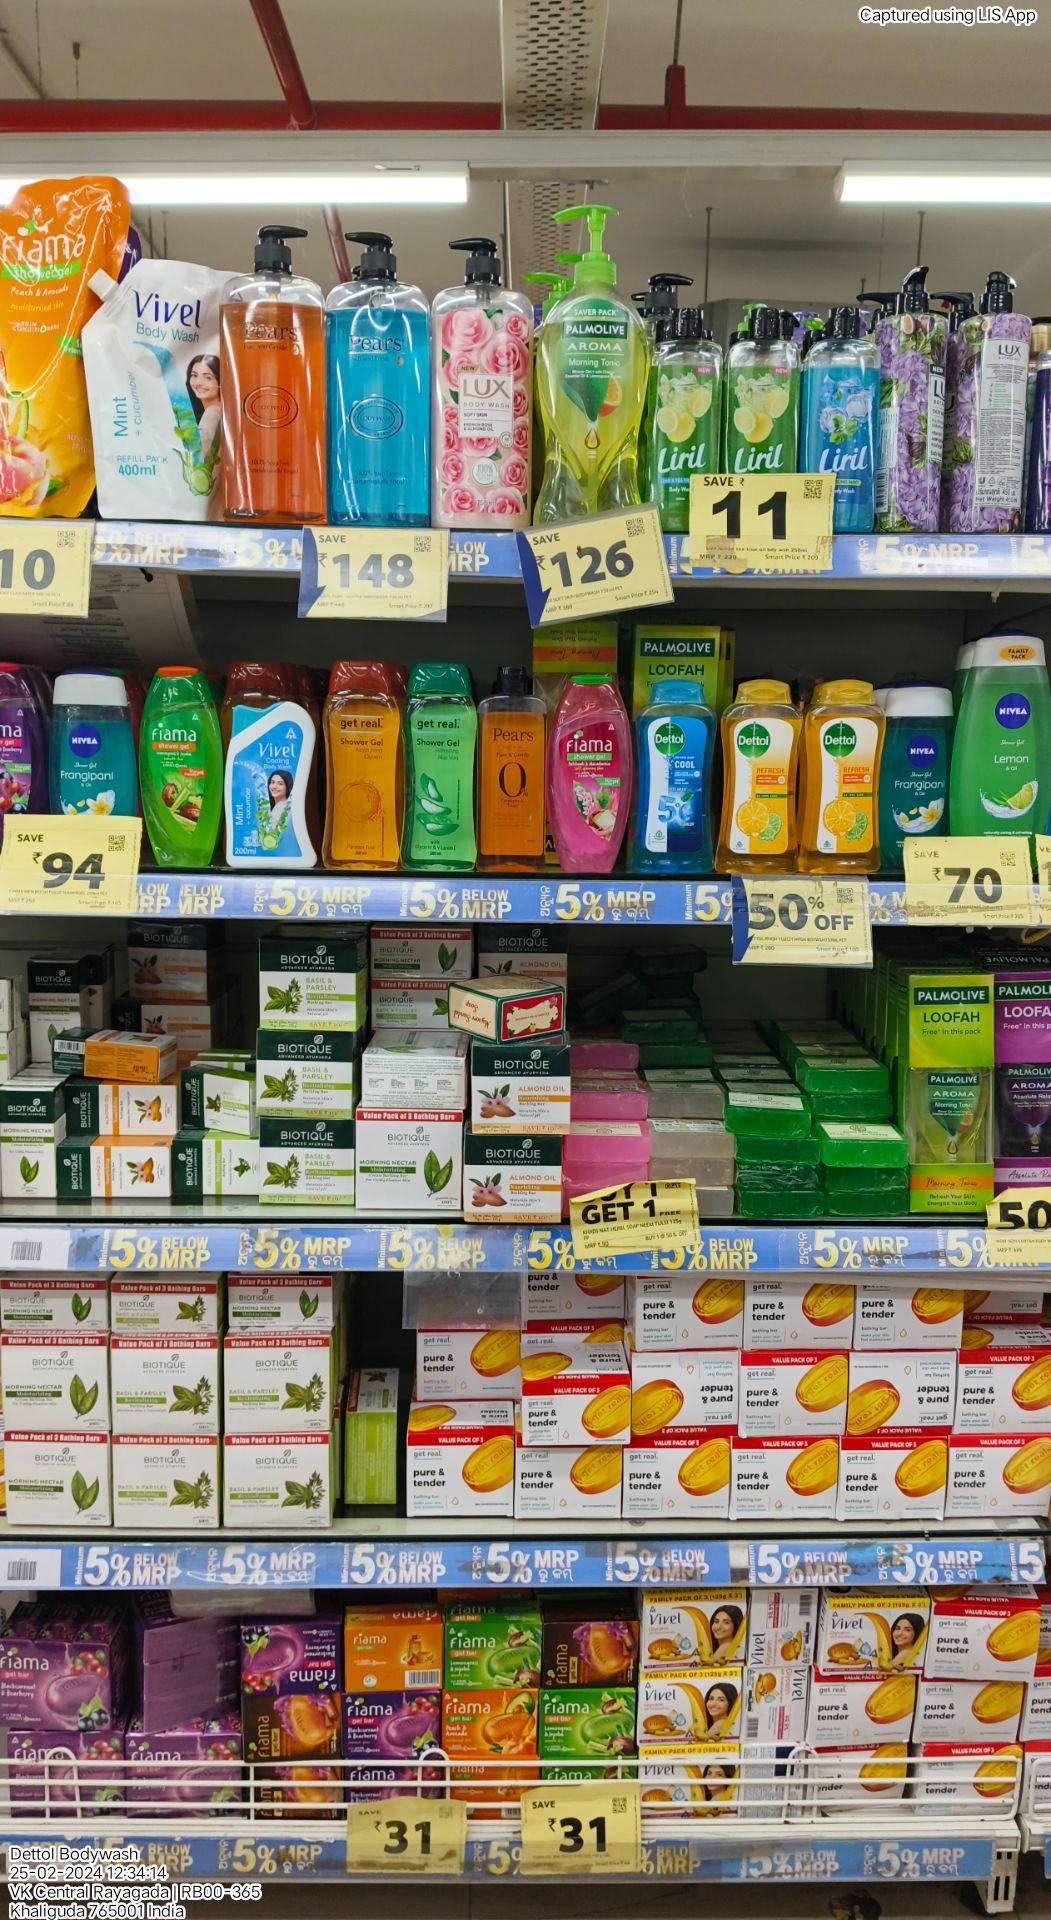Dettol_Bodywash_Cool: (637, 682, 717, 876)
Dettol_Bodywash_Refresh: (720, 682, 796, 872), (809, 681, 884, 872)
Fiama_Shower_Gel_Lemongrass_and_Jojoba_250ML: (146, 664, 220, 871)
Fiama_Shower_Gel_Patchouli_and_Macadamia_250ML: (557, 678, 630, 876)
Get_Real_Shower_Gel_Moisturising_Glycerin_300ML: (330, 661, 403, 868)
Nivea_Shower_Gel_Frangipani_and_Oil_250ML: (47, 671, 137, 818)
Nivea_Shower_Gel_Lemon_and_Oil_250ML: (957, 635, 1050, 836), (889, 686, 951, 836)
